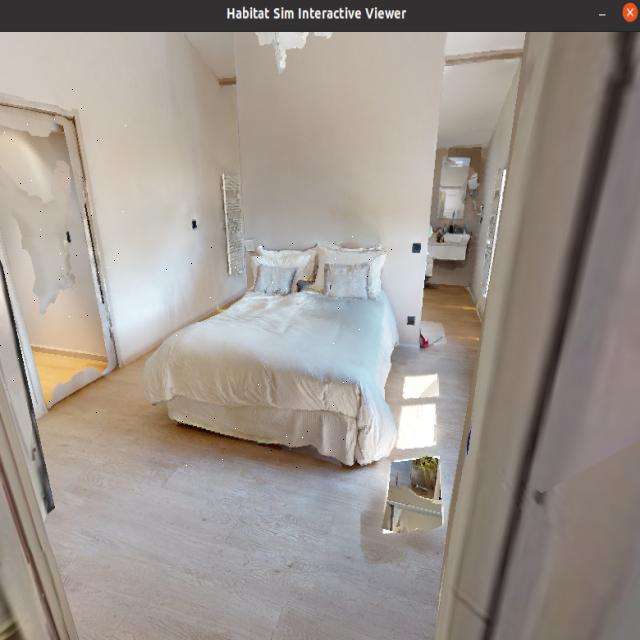bed: (157, 220, 398, 470)
door-frame: (0, 76, 127, 429)
